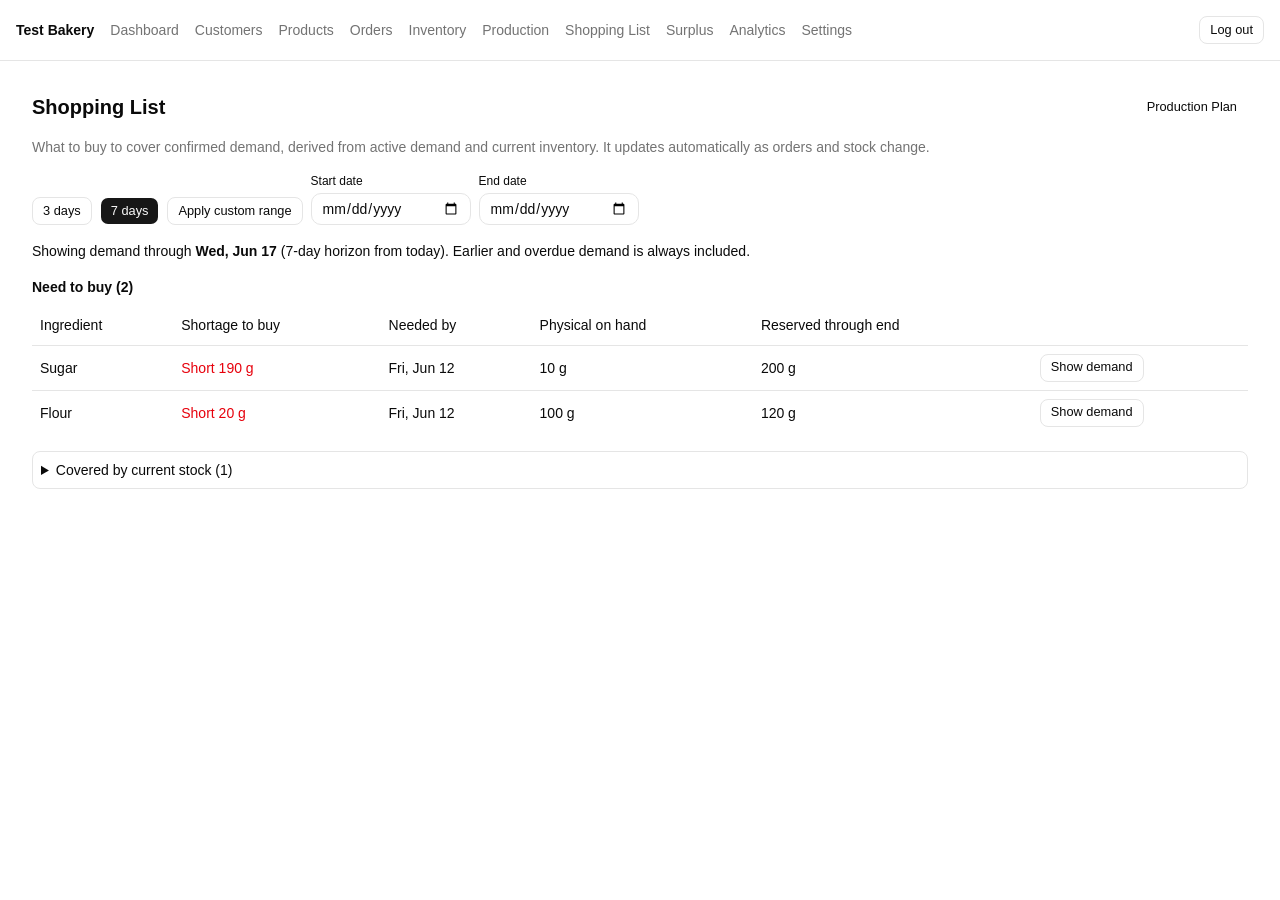
Shopping List page › expands the contributing-demand drilldown with overdue/in-production labels and orders
The width and height of the screenshot is (1280, 900).
Expected: the heading "Need to buy (2)" is shown, 32,279 -> 133,295
Step 1. Click the button with aria-label "show contributing demand for flour" → (1092, 412), box 1040,398 -> 1144,426
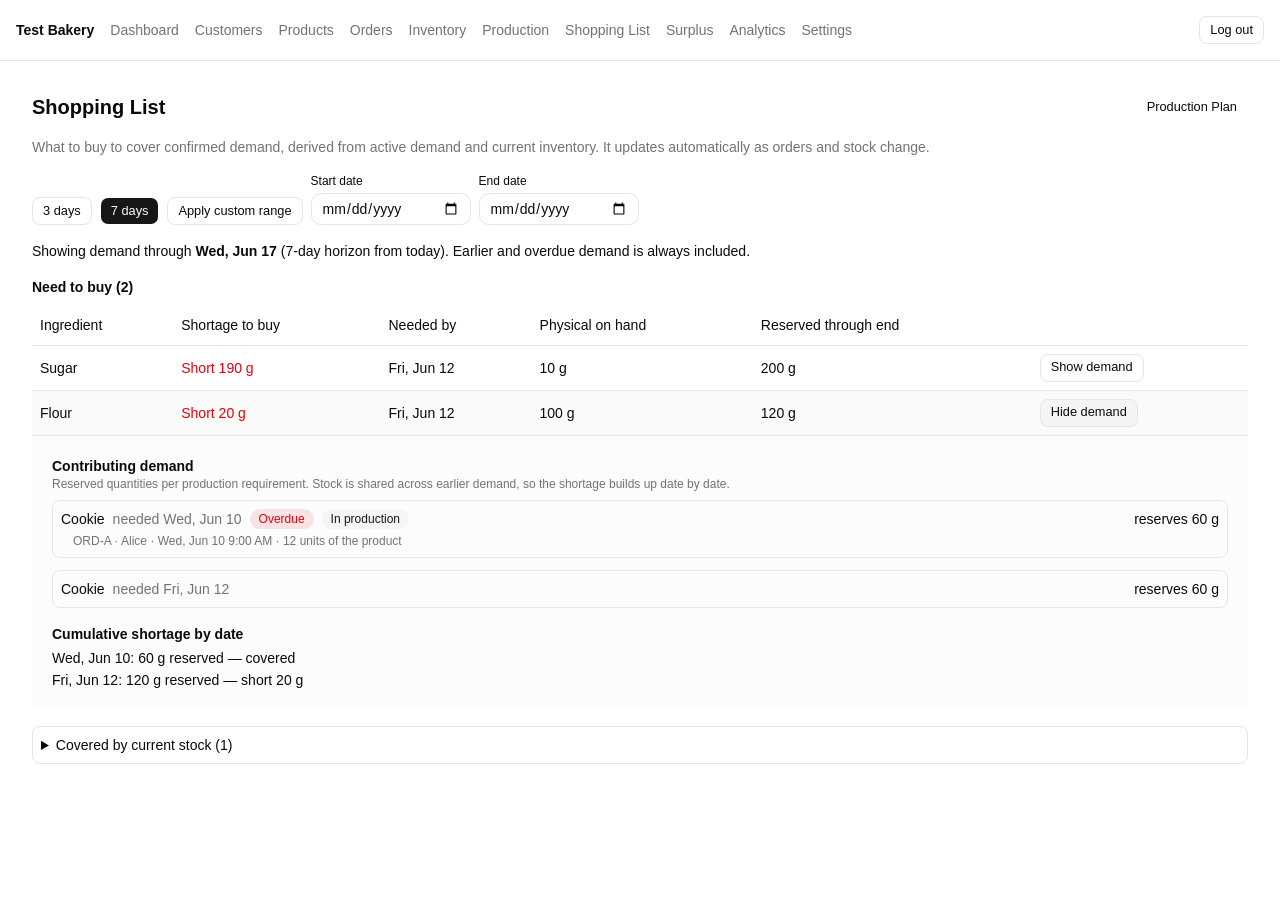
Expected: the button named "show contributing demand for flour" is expanded
Expected: the text "Overdue" is shown, 250,508 -> 314,528
Expected: the text "In production" is shown, 322,508 -> 409,528
Step 2. Click the button named "show contributing demand for flour" → (1089, 412), box 1040,398 -> 1138,426
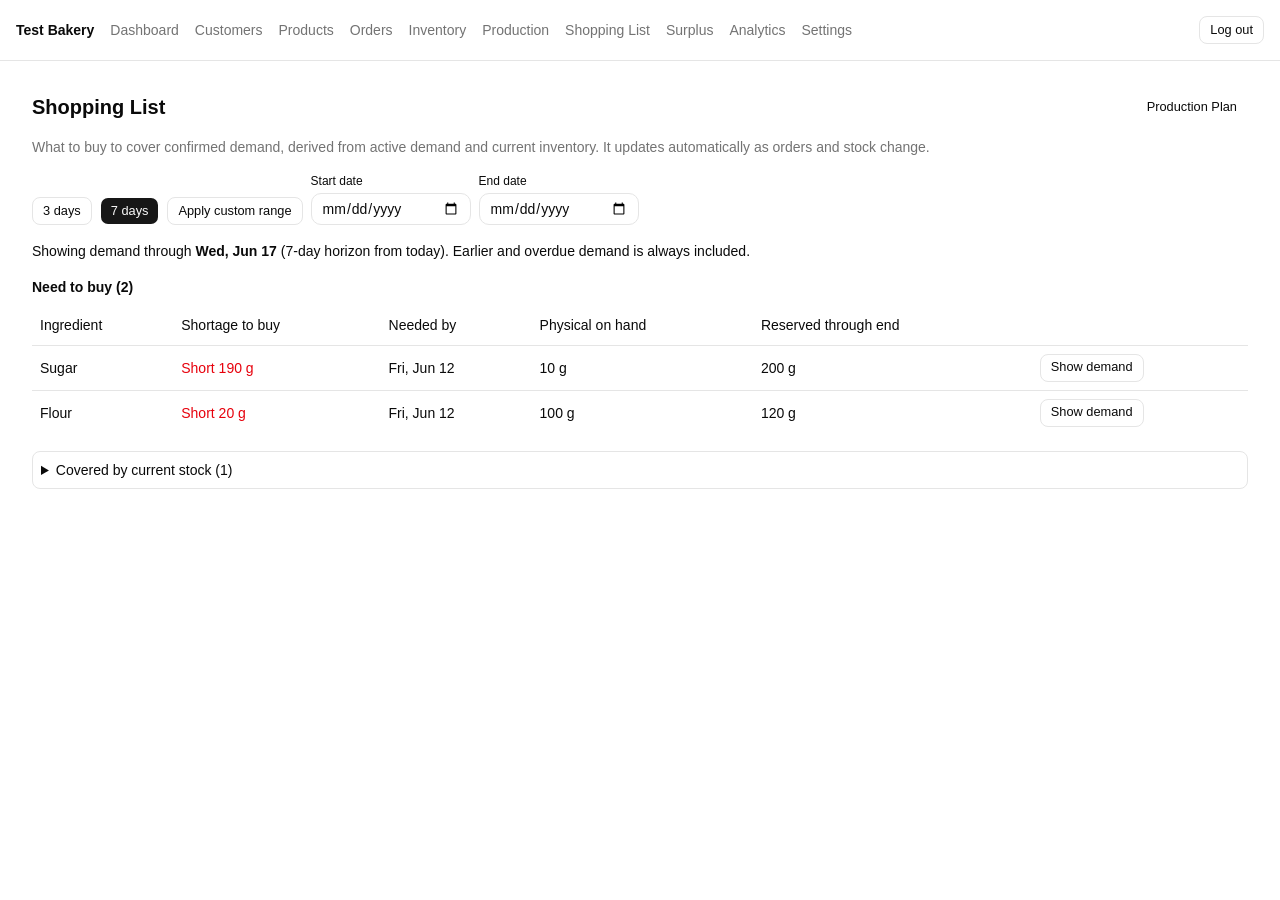
Expected: the element with test id "drilldown-i1" is gone
